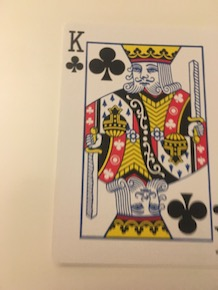KingOfClubs: (48, 15, 218, 273)
